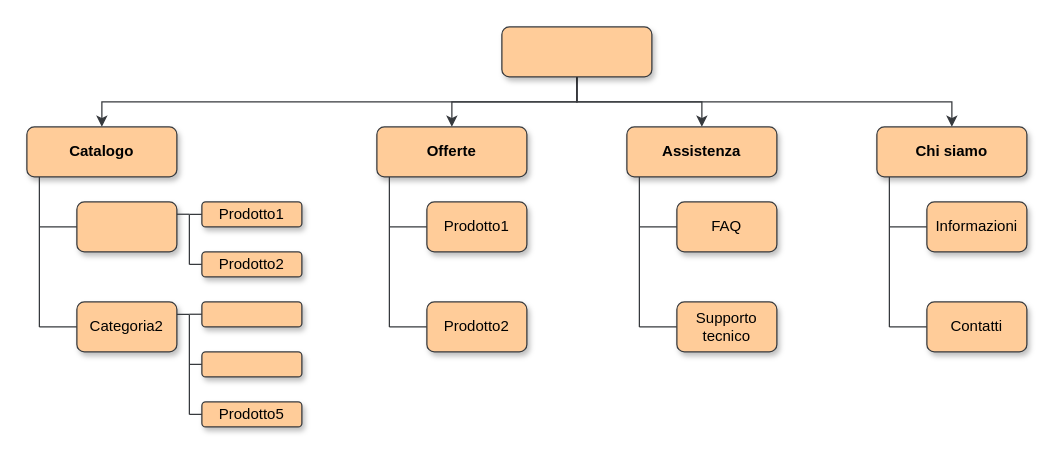
Image size: 1056x458. Some labels were removed from this diagram. Each missing label, with the centre of its shape:
"Categoria1" goes at [127,228].
"HomePage" goes at [577,53].
"Prodotto3" goes at [252,316].
"Prodotto4" goes at [252,366].
